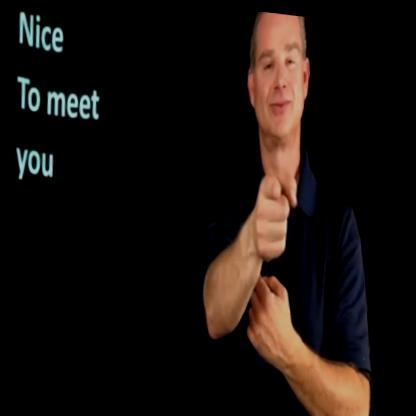NiceToMeetYou: (210, 138, 317, 393)
